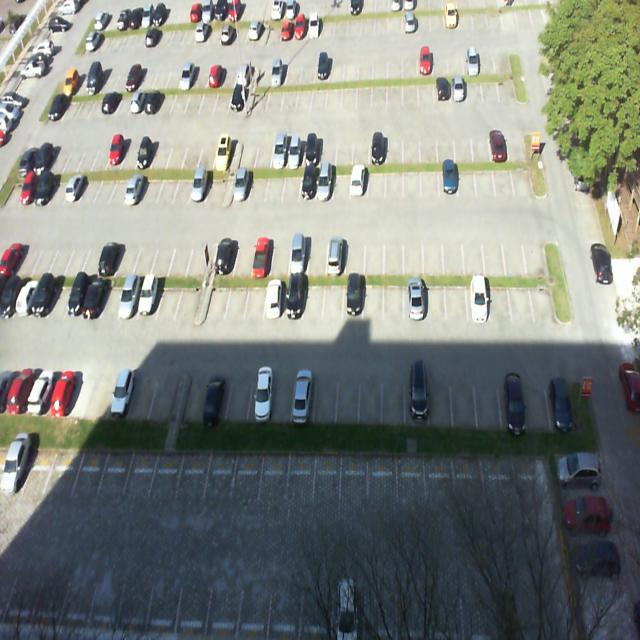space-empty: (94, 445, 132, 502), (123, 442, 158, 502), (71, 446, 106, 501), (148, 444, 182, 500), (43, 445, 78, 499), (231, 451, 264, 504), (204, 448, 238, 498), (175, 445, 208, 496), (312, 451, 342, 507), (223, 370, 254, 424), (21, 446, 55, 494), (259, 448, 290, 500), (523, 371, 550, 428), (64, 367, 93, 420), (476, 372, 502, 429), (222, 272, 249, 326), (83, 371, 112, 421), (288, 449, 314, 504), (452, 374, 479, 426), (428, 375, 454, 428), (127, 370, 154, 420), (312, 372, 336, 428), (268, 373, 294, 424), (154, 274, 180, 324), (530, 270, 557, 318), (148, 374, 175, 422), (359, 371, 382, 426), (174, 272, 198, 324), (382, 371, 405, 424), (101, 270, 125, 320), (241, 275, 265, 325), (335, 373, 359, 423), (486, 273, 511, 320), (483, 227, 507, 275), (181, 373, 206, 418), (443, 226, 466, 273), (205, 273, 225, 327), (130, 236, 156, 276), (113, 238, 140, 276), (509, 276, 532, 320), (303, 276, 324, 324), (155, 165, 178, 208), (525, 229, 548, 272), (444, 277, 467, 320), (148, 237, 172, 278), (363, 276, 384, 322), (167, 238, 192, 276), (505, 227, 526, 272), (322, 277, 343, 322), (425, 229, 445, 276), (188, 239, 212, 278), (139, 165, 162, 205), (511, 156, 534, 196), (404, 226, 424, 272), (426, 276, 446, 322), (172, 165, 193, 208), (382, 231, 404, 272), (229, 238, 252, 277), (204, 166, 226, 206), (464, 228, 484, 272), (384, 276, 402, 322), (307, 234, 328, 273), (345, 231, 364, 274), (268, 236, 290, 272), (364, 235, 383, 273), (458, 162, 478, 198), (478, 158, 496, 198), (494, 160, 514, 195), (267, 166, 284, 207), (283, 164, 300, 205), (250, 166, 268, 204), (368, 162, 386, 200), (422, 163, 440, 198), (333, 165, 350, 202), (388, 162, 404, 200), (403, 163, 420, 198)
space-occupied: (545, 370, 576, 426), (499, 373, 528, 432), (117, 271, 146, 322), (106, 371, 134, 422), (136, 267, 162, 320), (203, 370, 229, 420), (246, 372, 272, 422), (262, 270, 286, 324), (290, 372, 313, 424), (405, 374, 428, 426), (467, 275, 488, 322), (188, 164, 211, 206), (282, 276, 302, 324), (287, 234, 310, 274), (404, 274, 424, 320), (231, 164, 252, 205), (213, 239, 236, 276), (251, 235, 272, 272), (345, 275, 362, 320), (324, 235, 344, 273), (299, 166, 317, 205), (440, 162, 458, 195), (316, 166, 332, 200), (351, 164, 367, 198)
